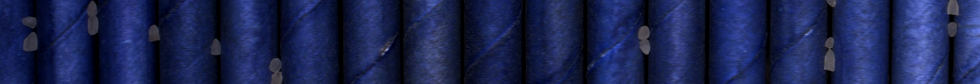broken_grain: (21, 31, 40, 52), (822, 49, 837, 74), (210, 36, 224, 58), (21, 13, 40, 29), (86, 15, 99, 37), (944, 1, 962, 16), (270, 69, 287, 84), (638, 38, 652, 56), (148, 24, 161, 43), (637, 24, 650, 41), (945, 19, 957, 37), (86, 1, 98, 18), (269, 56, 281, 73), (824, 36, 836, 49)
